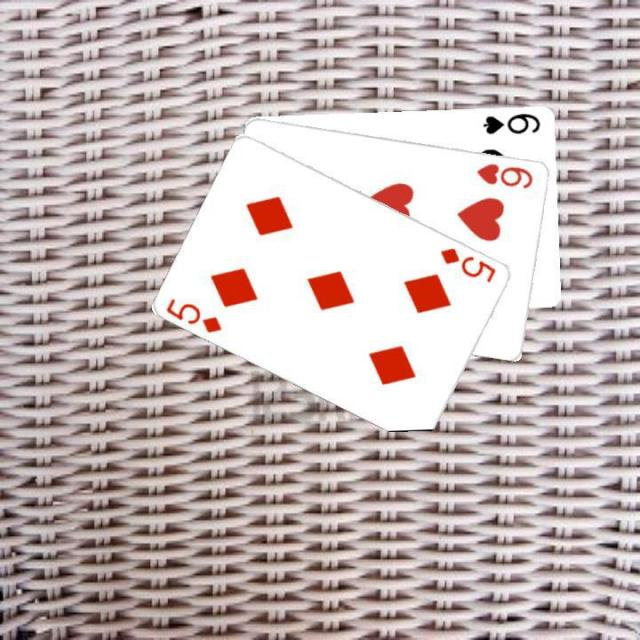5D: (436, 243, 498, 284), (163, 294, 225, 335)
6H: (473, 158, 535, 190)
6S: (479, 109, 542, 135)
